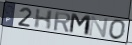2: (17, 7, 33, 29)
H: (33, 8, 55, 31)
M: (68, 12, 93, 37)
N: (88, 16, 111, 39)
O: (108, 19, 127, 41)
R: (53, 11, 72, 33)
